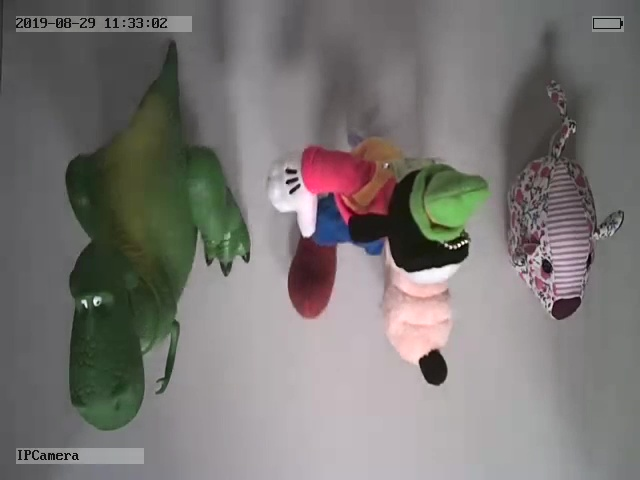goofy: (268, 136, 488, 387)
pig: (503, 78, 624, 322)
rex: (63, 40, 251, 432)
